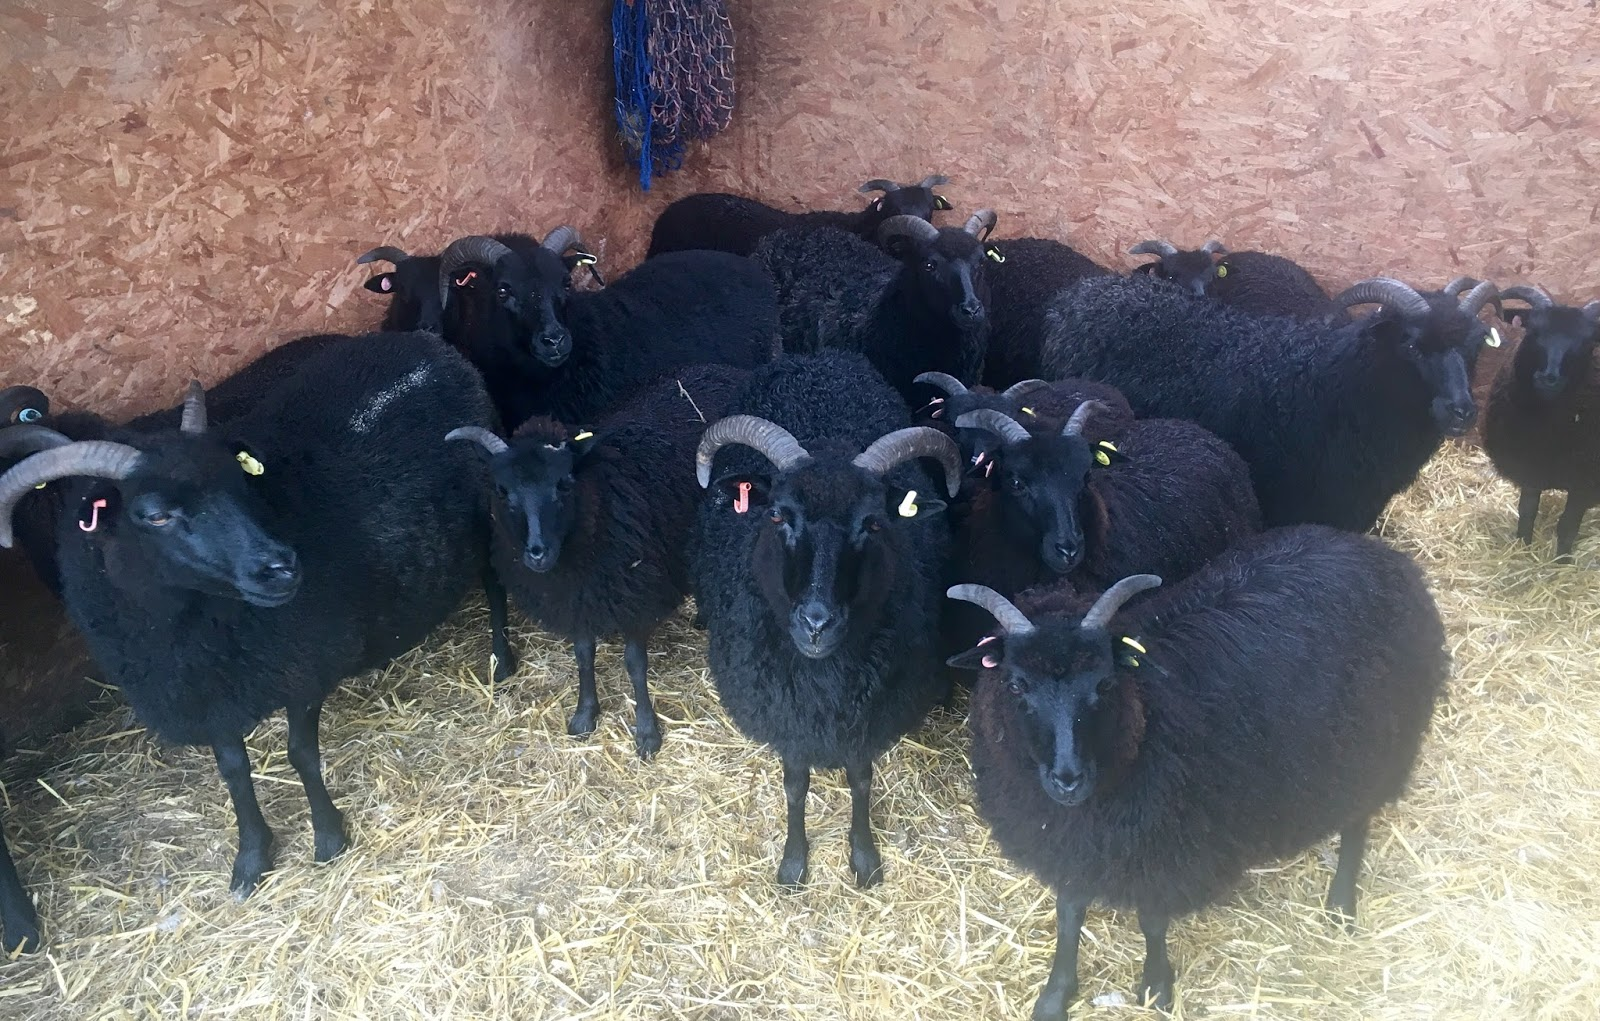sheep: (101, 295, 482, 904), (968, 549, 1417, 997), (704, 357, 913, 909), (1086, 237, 1439, 531), (477, 369, 728, 763), (633, 152, 919, 322), (871, 200, 1106, 395), (966, 413, 1252, 569), (364, 228, 571, 397), (1479, 260, 1600, 547)
